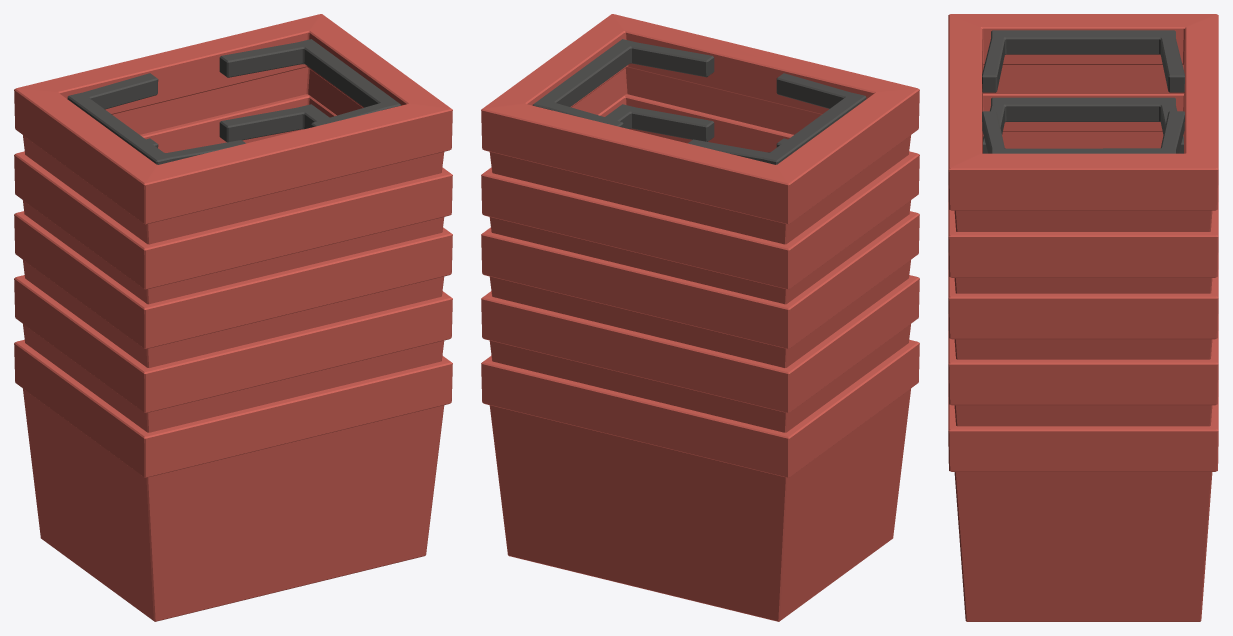
File: Basket_Stack 1.fbx
3 renders of one model, left to right at view 1: azimuth 30°, elevation 25°; view 2: azimuth 150°, elevation 25°; view 3: azimuth 270°, elevation 25°, orthographic. The views are drawn at different scales.
Visible parts, largest first — view 1: Basket_close5; view 2: Basket_close5; view 3: Basket_close5.
Part boxes in pixels (x1,y1,x2,y2): Basket_close5: (14, 14, 452, 621); Basket_close5: (481, 14, 919, 621); Basket_close5: (948, 14, 1218, 621).
Size of the model in its own units: 93.36 by 130 by 68.74.
Materials: 1 (1 with a texture image).
